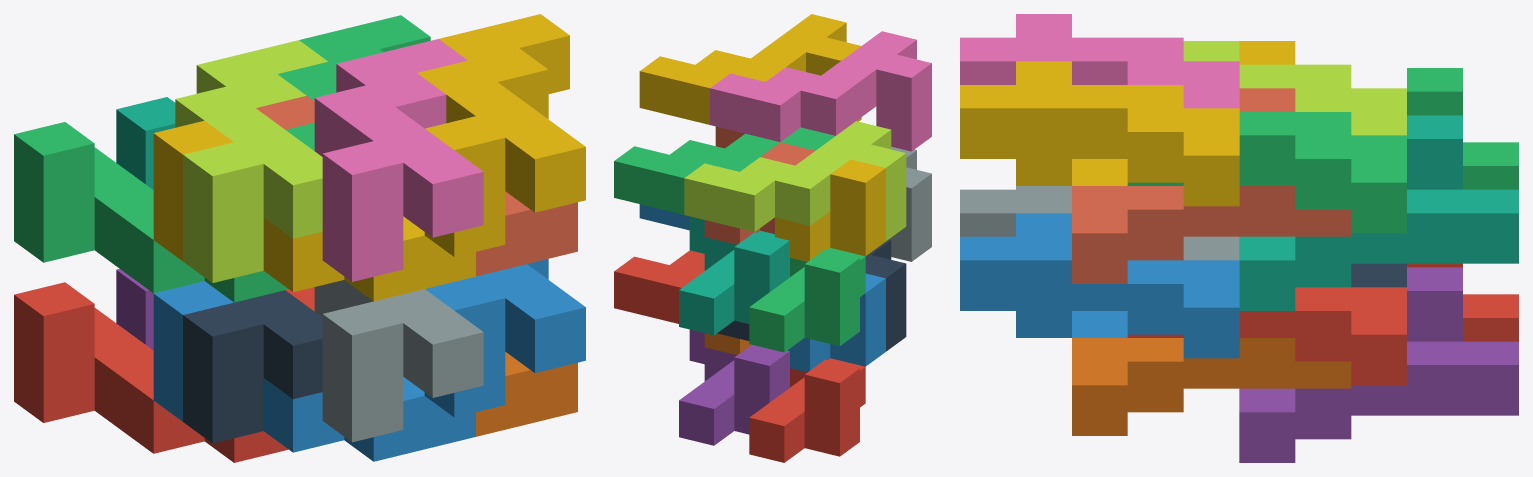
The model's file is tiling.obj.
3 views of the same model, side by side, from view 1: azimuth 30°, elevation 25°; view 2: azimuth 150°, elevation 25°; view 3: azimuth 270°, elevation 25° (orthographic). The views are drawn at different scales.
Parts seen in each view (by area): view 1: copy_2_domain_4, copy_2_domain_3, copy_2_domain_8, copy_1_domain_3, copy_1_domain_1, copy_2_domain_2, copy_2_domain_1, copy_2_domain_6, copy_1_domain_2, copy_1_domain_4, copy_1_domain_8, copy_2_domain_7 (+3 smaller); view 2: copy_2_domain_4, copy_2_domain_3, copy_2_domain_8, copy_1_domain_1, copy_1_domain_3, copy_1_domain_7, copy_1_domain_5, copy_2_domain_7, copy_1_domain_4, copy_2_domain_5, copy_1_domain_2, copy_2_domain_2 (+4 smaller); view 3: copy_2_domain_8, copy_2_domain_6, copy_1_domain_5, copy_1_domain_7, copy_1_domain_8, copy_1_domain_6, copy_2_domain_7, copy_2_domain_4, copy_2_domain_5, copy_2_domain_3, copy_2_domain_2, copy_1_domain_3 (+4 smaller).
Boxes of the visible parts, box(x1,y1,x2,y2) form: copy_2_domain_4: box(314, 39, 483, 281); copy_2_domain_3: box(175, 40, 327, 282); copy_2_domain_8: box(417, 14, 585, 256); copy_1_domain_3: box(14, 122, 288, 302); copy_1_domain_1: box(14, 282, 288, 462); copy_2_domain_2: box(314, 280, 483, 442); copy_2_domain_1: box(183, 290, 322, 443); copy_2_domain_6: box(424, 259, 585, 417); copy_1_domain_2: box(153, 281, 475, 461); copy_1_domain_4: box(153, 120, 475, 301); copy_1_domain_8: box(256, 95, 577, 276); copy_2_domain_7: box(277, 15, 430, 150); copy_2_domain_4: box(710, 31, 931, 151); copy_2_domain_3: box(684, 121, 906, 240); copy_2_domain_8: box(639, 14, 861, 124); copy_1_domain_1: box(749, 358, 865, 462); copy_1_domain_3: box(749, 248, 865, 352); copy_1_domain_7: box(679, 216, 789, 335); copy_1_domain_5: box(679, 329, 789, 445); copy_2_domain_7: box(614, 127, 835, 214); copy_1_domain_4: box(775, 159, 885, 261); copy_2_domain_5: box(614, 250, 704, 323); copy_1_domain_2: box(787, 273, 885, 372); copy_2_domain_2: box(889, 146, 931, 261); copy_2_domain_8: box(960, 61, 1239, 206); copy_2_domain_6: box(960, 213, 1239, 358); copy_1_domain_5: box(1239, 267, 1518, 462); copy_1_domain_7: box(1239, 115, 1518, 310); copy_1_domain_8: box(1072, 88, 1351, 283); copy_1_domain_6: box(1072, 338, 1351, 435); copy_2_domain_7: box(1127, 112, 1406, 233); copy_2_domain_4: box(960, 14, 1239, 108); copy_2_domain_5: box(1127, 287, 1406, 385); copy_2_domain_3: box(1183, 41, 1406, 135); copy_2_domain_2: box(960, 186, 1239, 260); copy_1_domain_3: box(1407, 68, 1518, 189).
Size of the model in its own units: 8 by 7 by 10.
